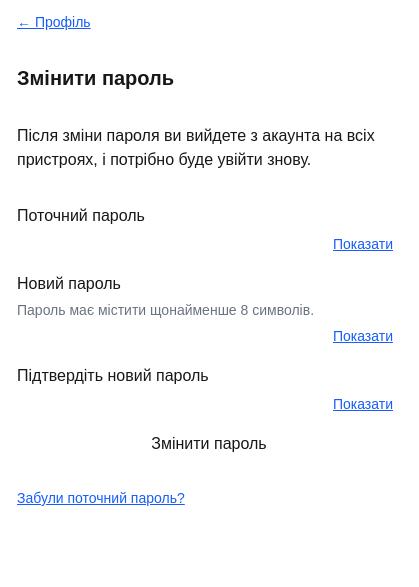
ChangePasswordForm › test_error_shows_its_fixed_message_(TypeError)
Type "correct-horse-battery" into the password field labelled "Поточний пароль".
click(209, 244); type("correct-horse-battery")  # box top-left (17, 232), bottom-right (401, 256)
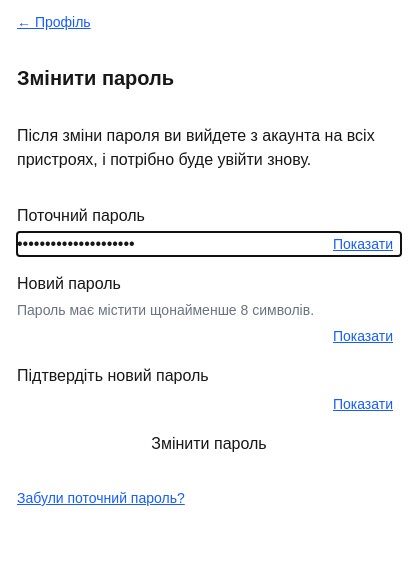
Type "staple-new-horse-battery" into the password field labelled "Новий пароль".
click(209, 336); type("staple-new-horse-battery")  # box top-left (17, 324), bottom-right (401, 348)
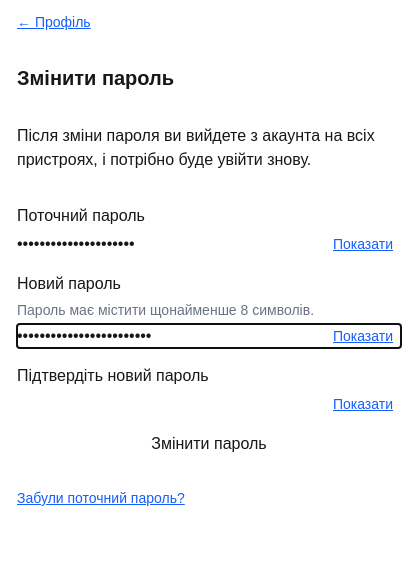
Type "staple-new-horse-battery" into the password field labelled "Підтвердіть новий пароль".
click(209, 404); type("staple-new-horse-battery")  # box top-left (17, 392), bottom-right (401, 416)
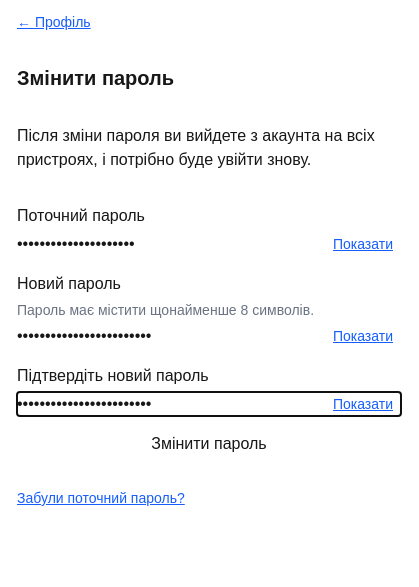
Click the button "Змінити пароль".
click(209, 444)  # box top-left (17, 432), bottom-right (401, 456)
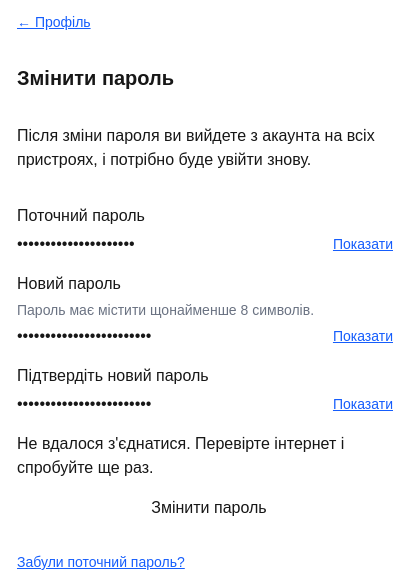
Expected: the message does not show "Failed to fetch", top-left (17, 432), bottom-right (401, 480)
Expected: the message reads "Не вдалося з'єднатися. Перевірте інтернет і спробуйте ще раз.", top-left (17, 435), bottom-right (344, 476)
